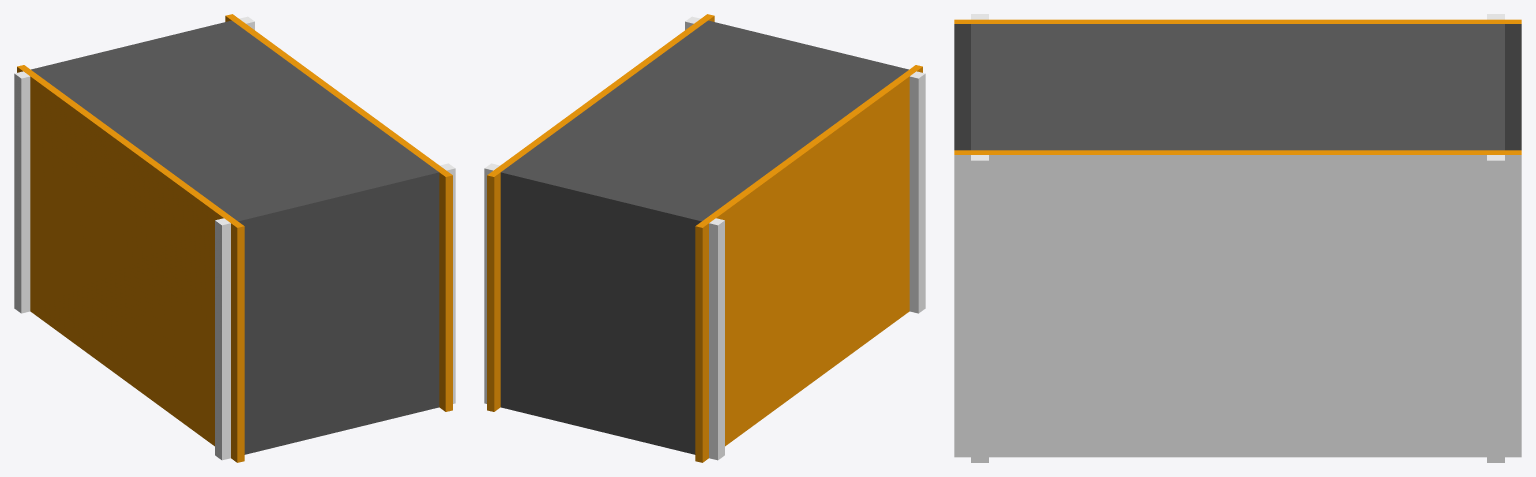
Rendered from Decorations_boxClosed.fbx.
3 renders of one model, left to right at view 1: azimuth 30°, elevation 25°; view 2: azimuth 150°, elevation 25°; view 3: azimuth 270°, elevation 25°, orthographic. The views are drawn at different scales.
Parts seen in each view (by area): view 1: Container; view 2: Container; view 3: Container.
Part boxes in pixels (bbox=[...]): Container: bbox=[14, 14, 455, 462]; Container: bbox=[484, 14, 925, 462]; Container: bbox=[954, 14, 1521, 462].
Bounding box in the file's own units: 1040 × 1000 × 1700.
1 material, 1 textured.
